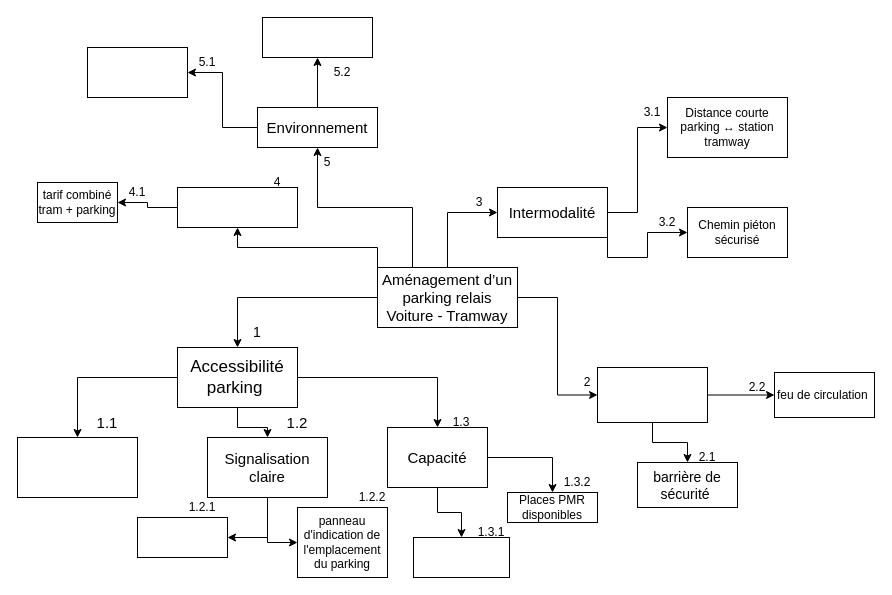
Image size: 892x595. Some labels were removed from this diagram. The box of each missing label's shape, as (x1, y1, x2, y2) in pixels:
Accès simple depuis la route: (16, 436, 138, 498)
Bornes recharge électrique: (86, 46, 188, 98)
nombre de place restante: (136, 516, 228, 558)
Nombre de places suffisant: (412, 536, 510, 578)
Paiement: (176, 186, 298, 228)
parking vélo: (262, 16, 372, 58)
Sécurité: (596, 366, 708, 422)
